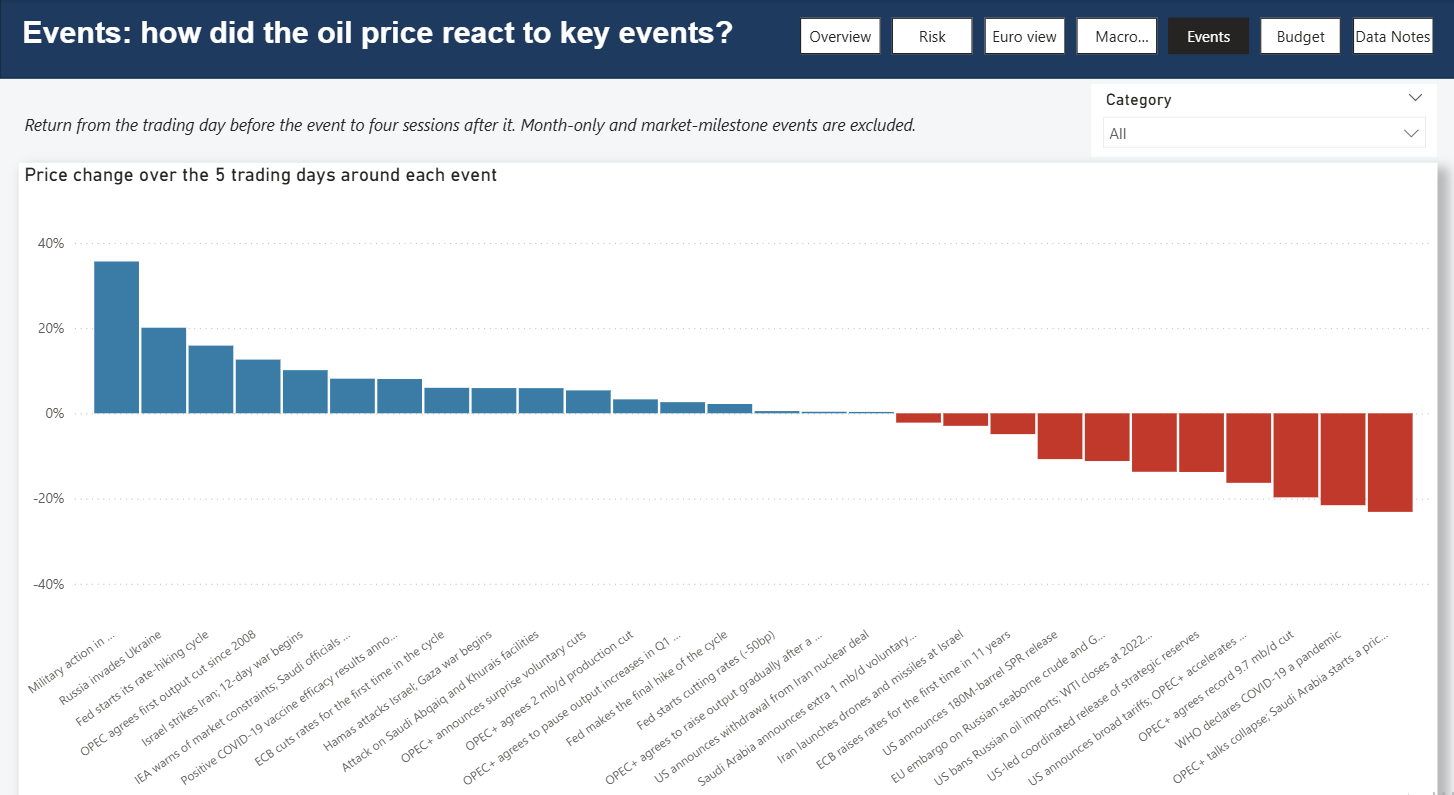

What the dashboard file says about the page in this screenshot:
{"tool":"powerbi","page":{"name":"Events","canvas":[1280,720],"ordinal":4},"visuals":[{"type":"shape","box":[0,0,1280,70],"z":0},{"type":"slicer","fields":{"Values":["dim_event.category"]},"box":[960,75,304,64],"z":1000},{"type":"clusteredColumnChart","title":"Price change over the 5 trading days around each event","fields":{"Category":["dim_event.event_name"],"Y":["fact_daily.Event Window Return (5d)"]},"box":[16,144,1248,560],"z":2000},{"type":"textbox","box":[0,10,688,48],"z":3000},{"type":"textbox","box":[16,96,816,48],"z":4000},{"type":"pageNavigator","box":[704,16,560,32],"z":5000}]}

Visuals, with their boxes in screenshot pixels (x1, y1, x2, y2), scaled from the page's 1280x720 canvas onto the 1454x795 screenshot:
shape: 0 0 1453 77
slicer - dim_event.category: 1090 83 1436 153
"Price change over the 5 trading days around each event" clusteredColumnChart: 18 159 1436 777
textbox: 0 11 782 64
textbox: 18 106 945 159
pageNavigator: 800 18 1436 53
